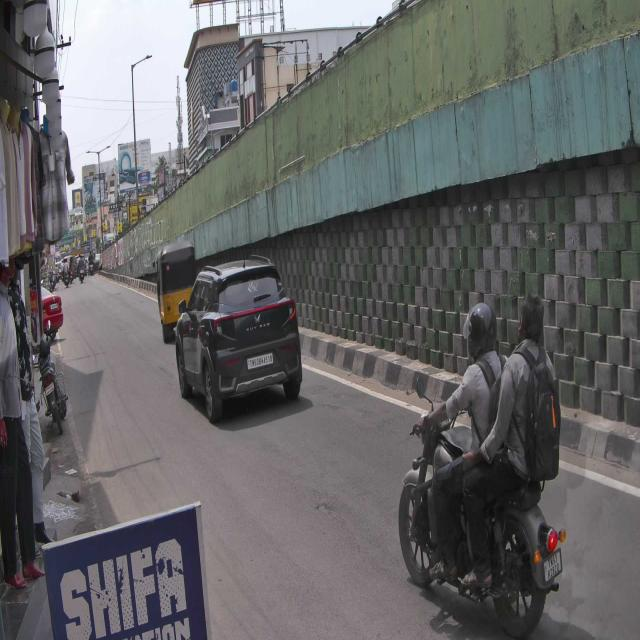double_rider: (396, 290, 568, 633)
